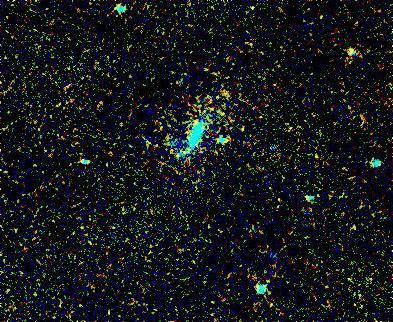star: (213, 73, 243, 103)
